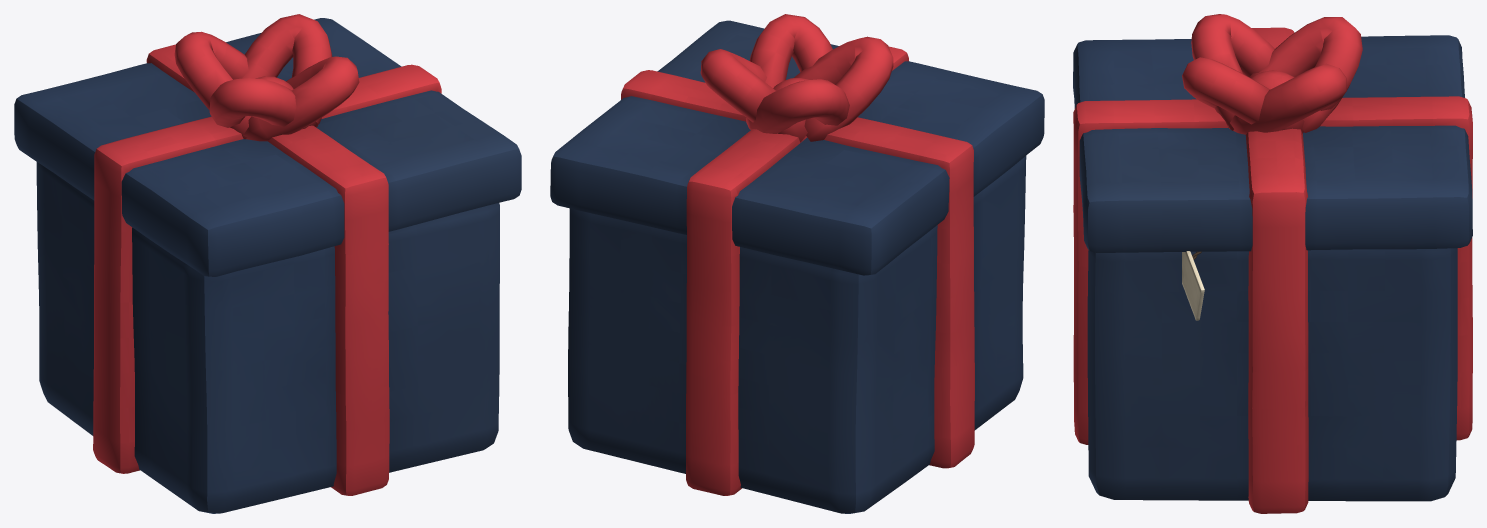
The model's file is frost_gift_box.glb.
3 views of the same model, side by side, from view 1: azimuth 30°, elevation 25°; view 2: azimuth 150°, elevation 25°; view 3: azimuth 270°, elevation 25° (orthographic). The views are drawn at different scales.
Visible parts, largest first — view 1: frost_gift_box; view 2: frost_gift_box; view 3: frost_gift_box.
Boxes of the visible parts, x1=… form: frost_gift_box: x1=14, y1=14, x2=521, y2=513; frost_gift_box: x1=550, y1=14, x2=1044, y2=513; frost_gift_box: x1=1073, y1=14, x2=1472, y2=513.
Bounding box in the file's own units: 8.08 × 8 × 7.31.
